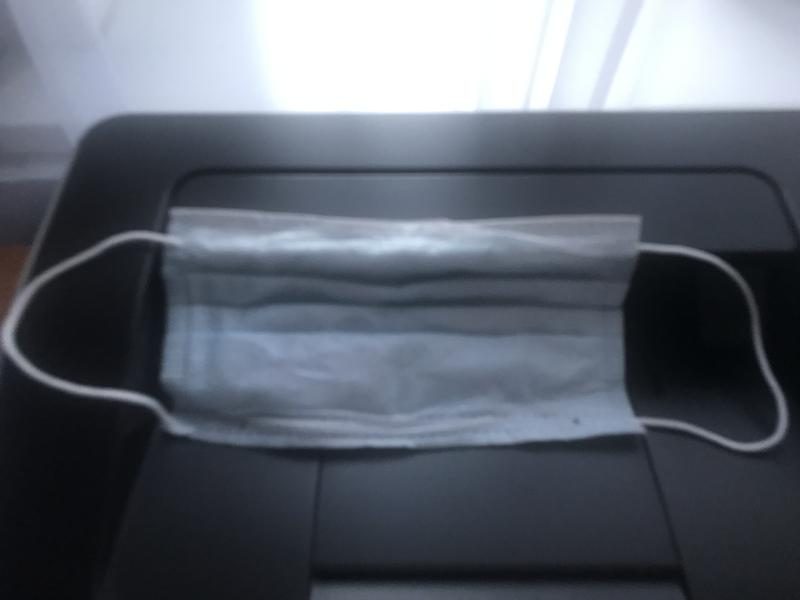medical_mask: (4, 206, 789, 451)
